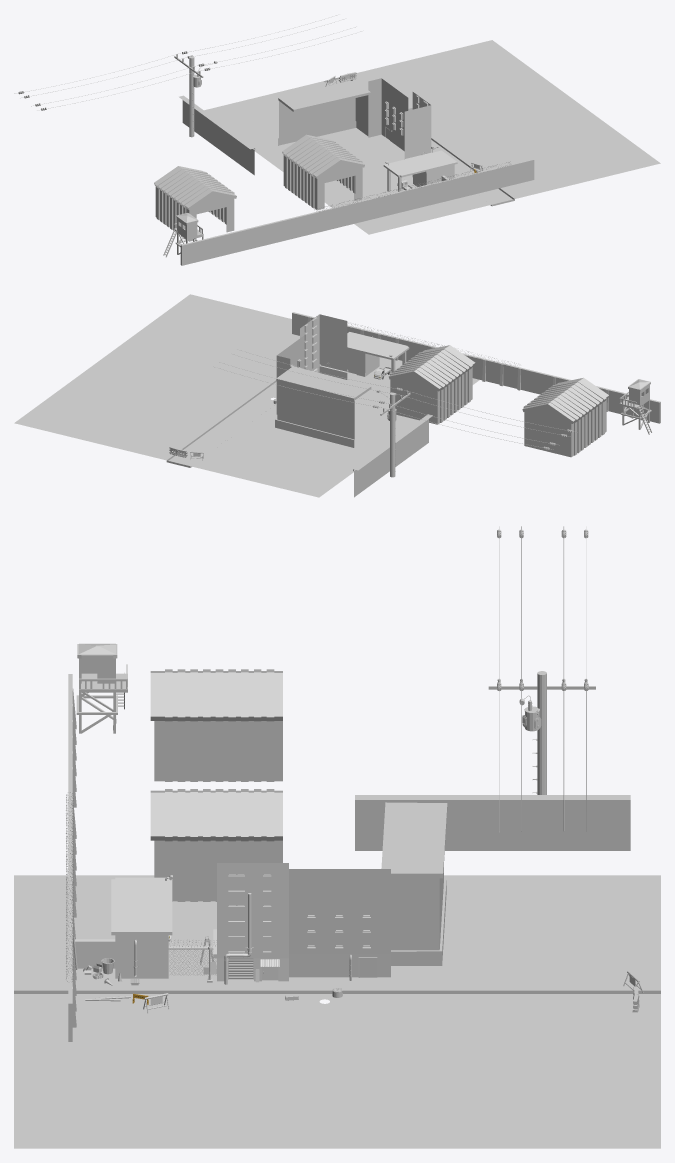
Rendered from Components1.fbx.
The picture shows the model from 3 angles, top to bottom: view 1: azimuth 30°, elevation 25°; view 2: azimuth 150°, elevation 25°; view 3: azimuth 270°, elevation 25°; orthographic projection. The views are drawn at different scales.
Parts seen in each view (by area): view 1: Plane.002, Wall, Ground.001, Building 1.001, Plane, Catenary.005, Building 1, Building 2, WatchTower, Building 2.001; view 2: Plane.002, Ground.001, Building 1.001, Wall, Building 1, Plane, Catenary.005, Building 2, WatchTower, Building 2.001; view 3: Plane.002, Ground.001, Building 1.001, Plane, Building 1, Catenary.005, Building 2, Building 2.001, Plane.003, WatchTower, Wall, Barbed Wire.
Part boxes in pixels (x1,y1,x2,y2): Plane.002: (204,40,660,234); Wall: (180,159,534,265); Ground.001: (154,134,364,241); Building 1.001: (278,78,408,151); Plane: (179,95,255,175); Catenary.005: (14,14,363,137); Building 1: (404,92,431,159); Building 2: (383,150,457,191); WatchTower: (174,213,203,254); Building 2.001: (412,164,454,186); Plane.002: (14,294,479,497); Ground.001: (388,345,608,457); Building 1.001: (275,335,371,447); Wall: (292,312,660,423); Building 1: (300,314,348,379); Plane: (353,414,432,497); Catenary.005: (213,349,577,477); Building 2: (347,332,409,373); WatchTower: (619,379,651,429); Building 2.001: (347,349,379,376); Plane.002: (14,875,660,1148); Ground.001: (150,669,282,901); Building 1.001: (289,802,447,977); Plane: (355,795,630,850); Building 1: (168,863,288,981); Catenary.005: (488,526,595,831); Building 2: (111,877,172,935); Building 2.001: (75,935,168,978); Plane.003: (14,989,660,993); WatchTower: (76,643,127,733); Wall: (68,674,76,1041); Barbed Wire: (66,792,73,982).
Size of the model in its own units: 430 by 79 by 253.
